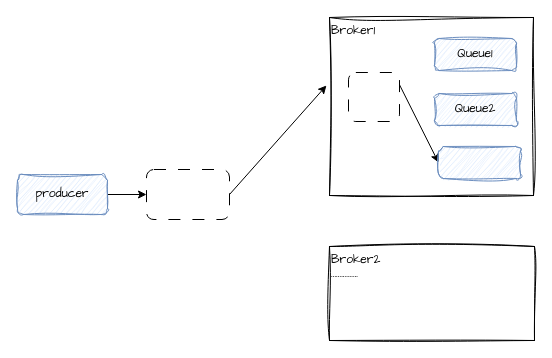
The diagram is 552 pixels wide and 358 high, and some of its shapes have lost their labels. Each missing label, with the centre of its shape:
"Load balance" goes at (x=188, y=194).
"Polling" goes at (x=374, y=97).
"Queue3" goes at (x=479, y=162).
